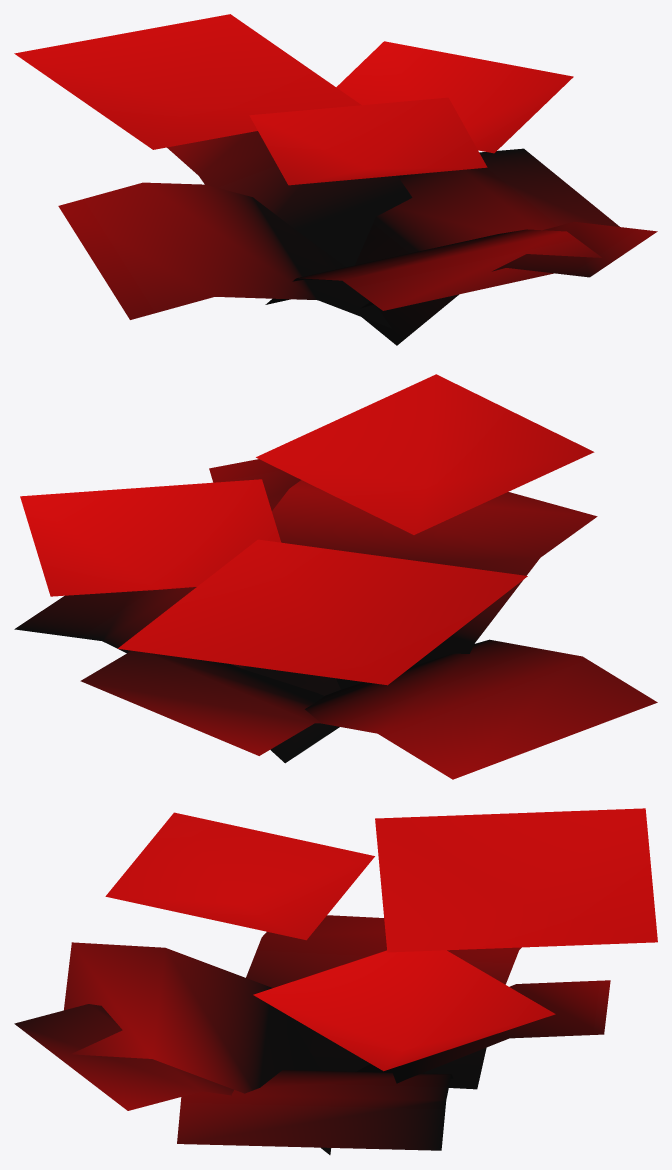
The model's file is flower_yellow_1.fbx.
3 views of the same model, one above another, from view 1: azimuth 30°, elevation 25°; view 2: azimuth 150°, elevation 25°; view 3: azimuth 270°, elevation 25° (orthographic). The views are drawn at different scales.
Parts seen in each view (by area): view 1: flower_yellow_1; view 2: flower_yellow_1; view 3: flower_yellow_1.
Boxes of the visible parts, <box> form: flower_yellow_1: <box>14,14,657,345</box>; flower_yellow_1: <box>14,374,657,779</box>; flower_yellow_1: <box>14,808,657,1154</box>.
Size of the model in its own units: 2.18 by 0.8348 by 2.36.
